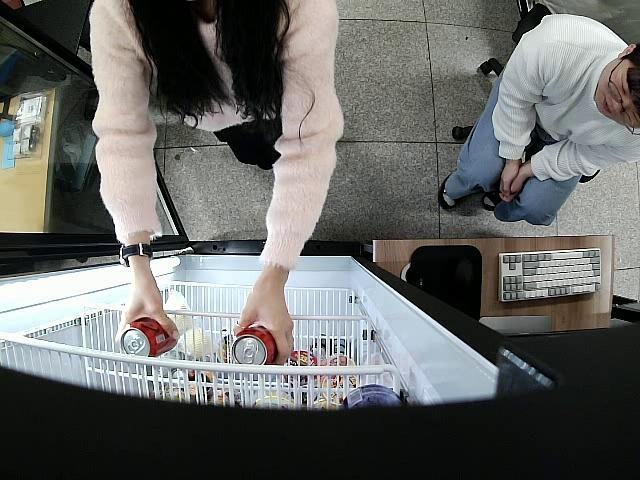11_cocaColaZero: (120, 318, 179, 356), (232, 320, 278, 366)
